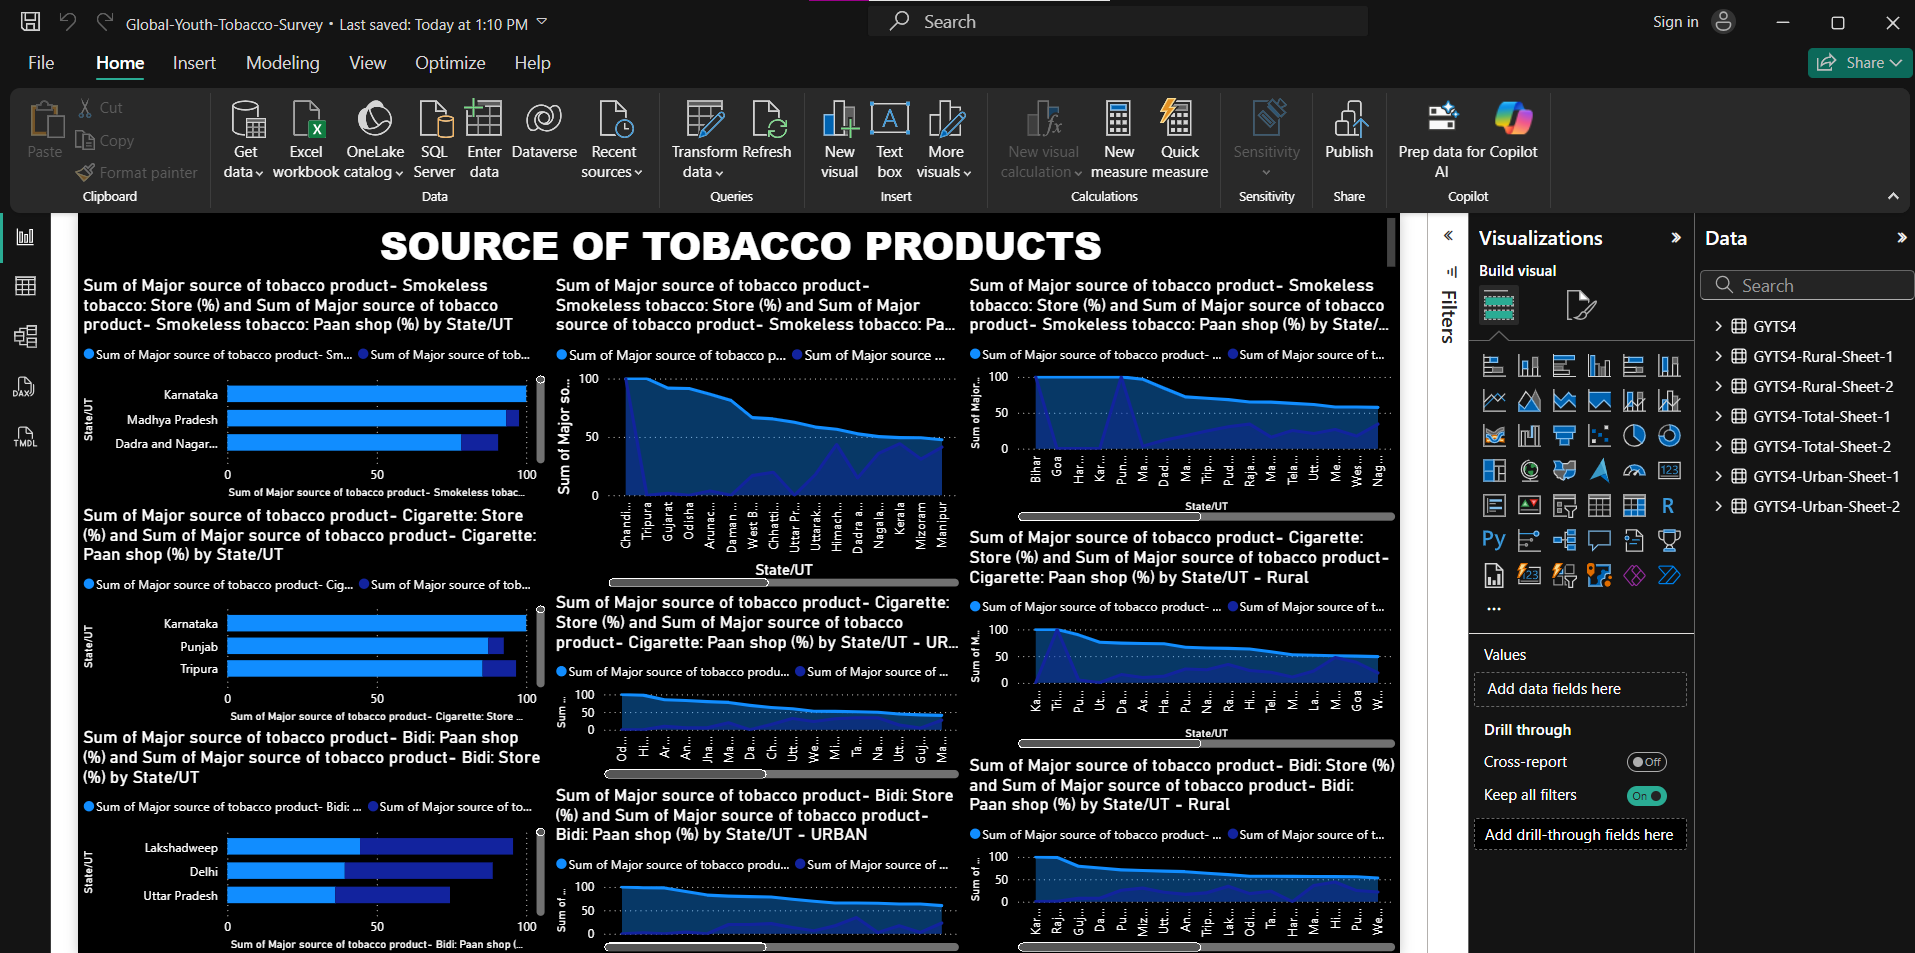

The dashboard page shown, as its layout file describes it:
{"tool":"powerbi","page":{"name":"Page 4","canvas":[1280,720],"ordinal":3},"visuals":[{"type":"textbox","box":[10.4,0,1269.9,59.5],"z":0},{"type":"barChart","fields":{"Category":["GYTS4-Total-Sheet-1.State/UT"],"Y":["Sum(GYTS4-Total-Sheet-1.Major source of tobacco product- Smokeless tobacco: Store   (%))","Sum(GYTS4-Total-Sheet-1.Major source of tobacco product- Smokeless tobacco: Paan shop  (%))"]},"box":[0,59.5,457.2,222.1],"z":1000},{"type":"barChart","fields":{"Category":["GYTS4-Total-Sheet-1.State/UT"],"Y":["Sum(GYTS4-Total-Sheet-1.Major source of tobacco product- Cigarette: Store   (%))","Sum(GYTS4-Total-Sheet-1.Major source of tobacco product- Cigarette: Paan shop (%))"]},"box":[0,281.6,457.2,216.3],"z":2000},{"type":"barChart","fields":{"Category":["GYTS4-Total-Sheet-1.State/UT"],"Y":["Sum(GYTS4-Total-Sheet-1.Major source of tobacco product- Bidi: Paan shop (%))","Sum(GYTS4-Total-Sheet-1.Major source of tobacco product- Bidi: Store   (%))"]},"box":[0,497.9,457.2,222.1],"z":3000},{"type":"areaChart","title":"Sum of Major source of tobacco product- Smokeless tobacco: Store   (%) and Sum of Major source of tobacco product- Smokeless tobacco: Paan shop  (%) by State/UT - URBAN","fields":{"Category":["GYTS4-Urban-Sheet-1.State/UT"],"Y":["Sum(GYTS4-Urban-Sheet-1.Major source of tobacco product- Smokeless tobacco: Store   (%))","Sum(GYTS4-Urban-Sheet-1.Major source of tobacco product- Smokeless tobacco: Paan shop  (%))"]},"box":[457.2,59.5,400.6,307.7],"z":4000},{"type":"areaChart","title":"Sum of Major source of tobacco product- Cigarette: Store   (%) and Sum of Major source of tobacco product- Cigarette: Paan shop (%) by State/UT - URBAN","fields":{"Category":["GYTS4-Urban-Sheet-1.State/UT"],"Y":["Sum(GYTS4-Urban-Sheet-1.Major source of tobacco product- Cigarette: Store   (%))","Sum(GYTS4-Urban-Sheet-1.Major source of tobacco product- Cigarette: Paan shop (%))"]},"box":[457.2,367.3,400.6,185.8],"z":5000},{"type":"areaChart","title":"Sum of Major source of tobacco product- Bidi: Store   (%) and Sum of Major source of tobacco product- Bidi: Paan shop (%) by State/UT - URBAN","fields":{"Category":["GYTS4-Urban-Sheet-1.State/UT"],"Y":["Sum(GYTS4-Urban-Sheet-1.Major source of tobacco product- Bidi: Store   (%))","Sum(GYTS4-Urban-Sheet-1.Major source of tobacco product- Bidi: Paan shop (%))"]},"box":[457.2,553.1,400.6,166.9],"z":6000},{"type":"areaChart","title":"Sum of Major source of tobacco product- Smokeless tobacco: Store   (%) and Sum of Major source of tobacco product- Smokeless tobacco: Paan shop  (%) by State/UT - Rural","fields":{"Category":["GYTS4-Rural-Sheet-1.State/UT"],"Y":["Sum(GYTS4-Rural-Sheet-1.Major source of tobacco product- Smokeless tobacco: Store   (%))","Sum(GYTS4-Rural-Sheet-1.Major source of tobacco product- Smokeless tobacco: Paan shop  (%))"]},"box":[857.9,59.5,422.4,243.9],"z":7000},{"type":"areaChart","title":"Sum of Major source of tobacco product- Cigarette: Store   (%) and Sum of Major source of tobacco product- Cigarette: Paan shop (%) by State/UT - Rural","fields":{"Category":["GYTS4-Rural-Sheet-1.State/UT"],"Y":["Sum(GYTS4-Rural-Sheet-1.Major source of tobacco product- Cigarette: Store   (%))","Sum(GYTS4-Rural-Sheet-1.Major source of tobacco product- Cigarette: Paan shop (%))"]},"box":[857.9,303.4,422.4,219.2],"z":8000},{"type":"areaChart","title":"Sum of Major source of tobacco product- Bidi: Store   (%) and Sum of Major source of tobacco product- Bidi: Paan shop (%) by State/UT - Rural","fields":{"Category":["GYTS4-Rural-Sheet-1.State/UT"],"Y":["Sum(GYTS4-Rural-Sheet-1.Major source of tobacco product- Bidi: Store   (%))","Sum(GYTS4-Rural-Sheet-1.Major source of tobacco product- Bidi: Paan shop (%))"]},"box":[857.9,524,422.4,196],"z":9000}]}

Visuals, with their boxes on the page's 1280x720 design canvas (x1, y1, x2, y2). These are canvas units, not pixel positions in the 1915x953 screenshot, which may show the page scaled, cropped or inside an application window:
textbox: pyautogui.locateOnScreen(10, 0, 1280, 60)
barChart - GYTS4-Total-Sheet-1.State/UT x Sum(GYTS4-Total-Sheet-1.Major source of tobacco product- Smokeless tobacco: Store   (%)): pyautogui.locateOnScreen(0, 60, 457, 282)
barChart - GYTS4-Total-Sheet-1.State/UT x Sum(GYTS4-Total-Sheet-1.Major source of tobacco product- Cigarette: Store   (%)): pyautogui.locateOnScreen(0, 282, 457, 498)
barChart - GYTS4-Total-Sheet-1.State/UT x Sum(GYTS4-Total-Sheet-1.Major source of tobacco product- Bidi: Paan shop (%)): pyautogui.locateOnScreen(0, 498, 457, 720)
"Sum of Major source of tobacco product- Smokeless tobacco: Store   (%) and Sum of Major source of tobacco product- Smokeless tobacco: Paan shop  (%) by State/UT - URBAN" areaChart: pyautogui.locateOnScreen(457, 60, 858, 367)
"Sum of Major source of tobacco product- Cigarette: Store   (%) and Sum of Major source of tobacco product- Cigarette: Paan shop (%) by State/UT - URBAN" areaChart: pyautogui.locateOnScreen(457, 367, 858, 553)
"Sum of Major source of tobacco product- Bidi: Store   (%) and Sum of Major source of tobacco product- Bidi: Paan shop (%) by State/UT - URBAN" areaChart: pyautogui.locateOnScreen(457, 553, 858, 720)
"Sum of Major source of tobacco product- Smokeless tobacco: Store   (%) and Sum of Major source of tobacco product- Smokeless tobacco: Paan shop  (%) by State/UT - Rural" areaChart: pyautogui.locateOnScreen(858, 60, 1280, 303)
"Sum of Major source of tobacco product- Cigarette: Store   (%) and Sum of Major source of tobacco product- Cigarette: Paan shop (%) by State/UT - Rural" areaChart: pyautogui.locateOnScreen(858, 303, 1280, 523)
"Sum of Major source of tobacco product- Bidi: Store   (%) and Sum of Major source of tobacco product- Bidi: Paan shop (%) by State/UT - Rural" areaChart: pyautogui.locateOnScreen(858, 524, 1280, 720)
